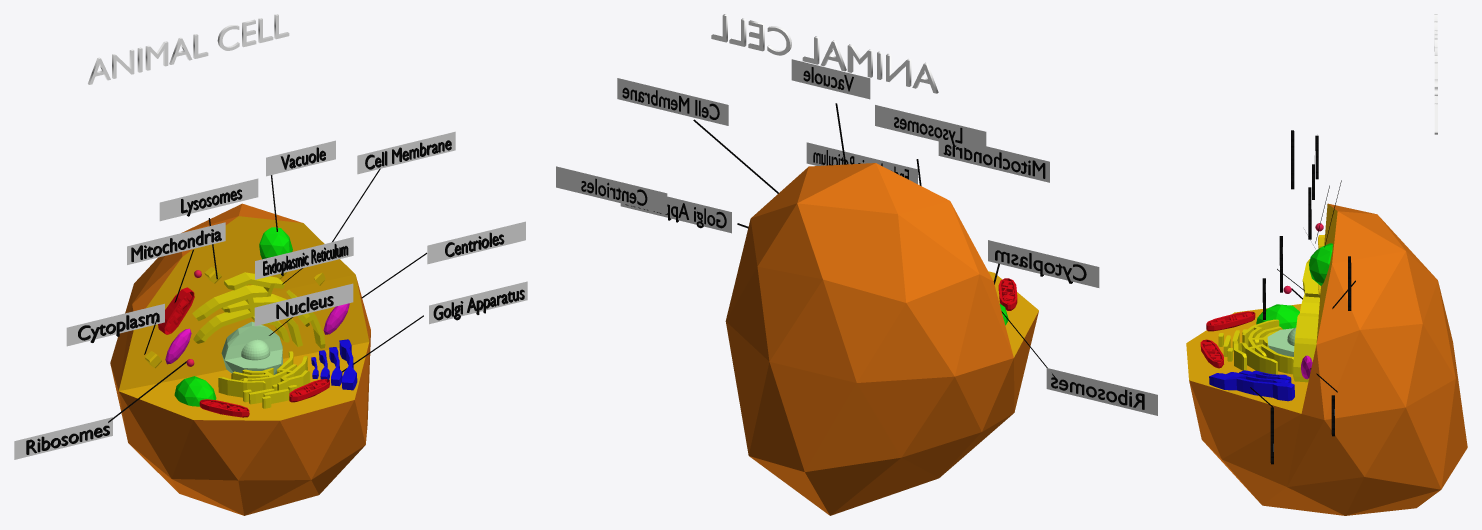
Rendered from animalcell.gltf.
3 renders of one model, left to right at view 1: azimuth 30°, elevation 25°; view 2: azimuth 150°, elevation 25°; view 3: azimuth 270°, elevation 25°, orthographic. The views are drawn at different scales.
Visible parts, largest first — view 1: Icosphere, Cube.037, Text.009, Icosphere.001, Cube, Plane.008, Plane.019, Plane.041, Plane.010, Plane.039, Plane.012, Plane.015 (+15 smaller); view 2: Icosphere, Text.009, Plane.019, Plane.041, Plane.010, Plane.012, Plane.039, Plane.015, Plane.016, Plane.017, Plane.018, Text.015 (+3 smaller); view 3: Icosphere, Cube, Cube.037, Cube.005, Icosphere.005, Icosphere.008, Icosphere.001, Cube.002, Text.009, Cube.004, Cube.019.
Part boxes in pixels (x1=…): Icosphere: x1=110, y1=203, x2=370, y2=515; Cube.037: x1=192, y1=272, x2=325, y2=348; Text.009: x1=88, y1=14, x2=289, y2=84; Icosphere.001: x1=221, y1=321, x2=282, y2=374; Cube: x1=218, y1=351, x2=310, y2=397; Plane.008: x1=254, y1=283, x2=353, y2=326; Plane.019: x1=159, y1=178, x2=258, y2=221; Plane.041: x1=427, y1=221, x2=525, y2=264; Plane.010: x1=66, y1=303, x2=164, y2=346; Plane.039: x1=14, y1=417, x2=112, y2=459; Plane.012: x1=357, y1=131, x2=455, y2=174; Plane.015: x1=127, y1=222, x2=225, y2=264; Icosphere: x1=725, y1=163, x2=1038, y2=515; Text.009: x1=711, y1=14, x2=938, y2=93; Plane.019: x1=875, y1=105, x2=986, y2=152; Plane.041: x1=556, y1=166, x2=667, y2=214; Plane.010: x1=988, y1=240, x2=1099, y2=287; Plane.012: x1=617, y1=78, x2=728, y2=125; Plane.039: x1=1046, y1=368, x2=1157, y2=415; Plane.015: x1=938, y1=141, x2=1049, y2=182; Plane.016: x1=791, y1=59, x2=870, y2=99; Plane.017: x1=620, y1=196, x2=731, y2=233; Plane.018: x1=806, y1=142, x2=917, y2=184; Text.015: x1=943, y1=144, x2=1045, y2=178; Icosphere: x1=1186, y1=203, x2=1467, y2=515; Cube: x1=1234, y1=319, x2=1293, y2=374; Cube.037: x1=1293, y1=259, x2=1320, y2=382; Cube.005: x1=1209, y1=370, x2=1294, y2=401; Icosphere.005: x1=1256, y1=304, x2=1299, y2=329; Icosphere.008: x1=1309, y1=243, x2=1332, y2=285; Icosphere.001: x1=1267, y1=327, x2=1296, y2=356; Cube.002: x1=1206, y1=311, x2=1255, y2=331; Text.009: x1=1434, y1=14, x2=1437, y2=134; Cube.004: x1=1200, y1=339, x2=1223, y2=368; Cube.019: x1=1218, y1=329, x2=1247, y2=361.
Size of the model in its own units: 7.07 by 5.58 by 3.19.
